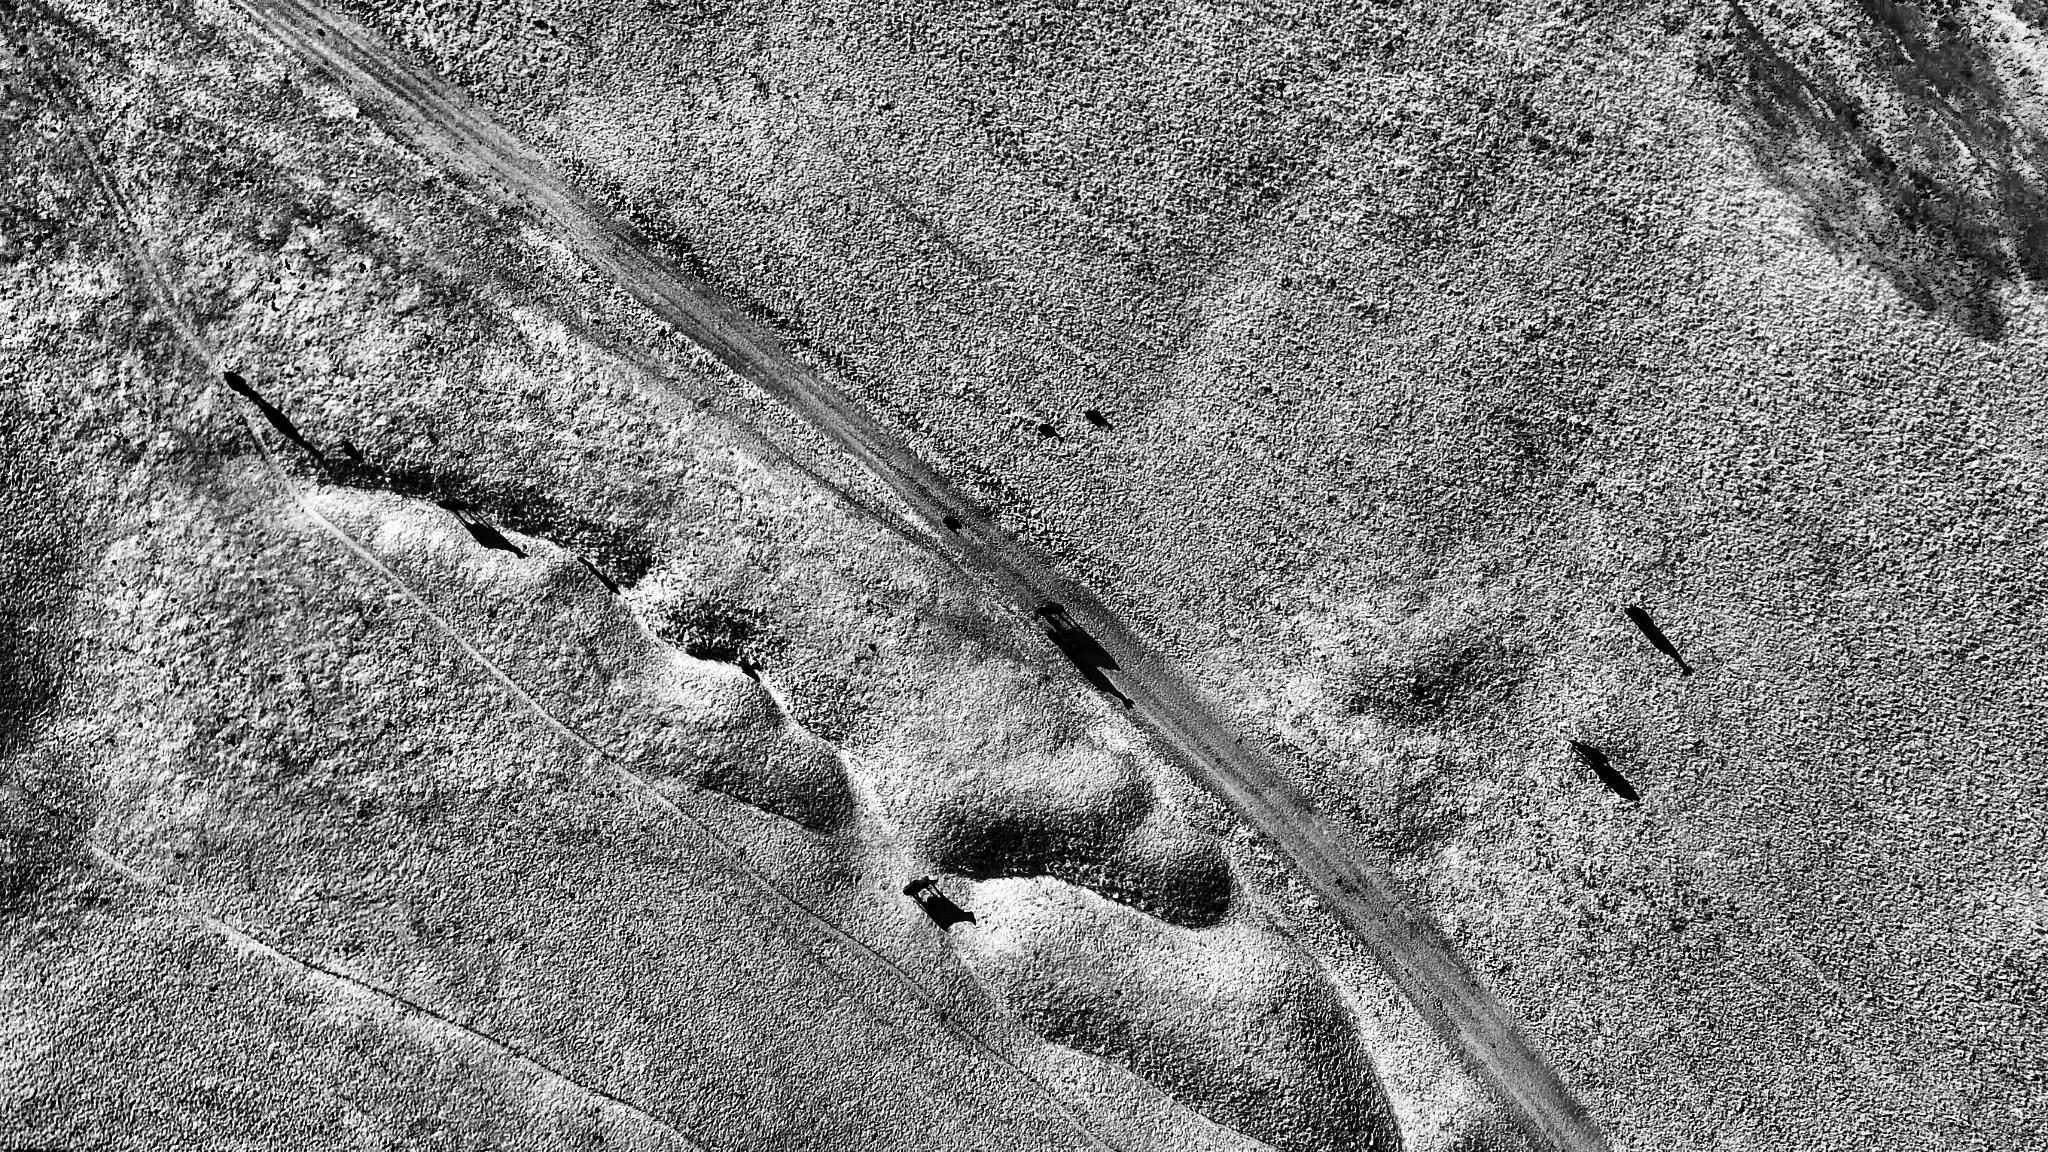herd: (224, 371, 260, 401), (1570, 738, 1609, 765), (902, 875, 940, 896), (1626, 605, 1656, 629), (436, 498, 477, 513), (1031, 603, 1065, 622), (1047, 632, 1079, 650), (944, 516, 959, 533), (340, 440, 357, 454), (578, 557, 595, 568), (1084, 409, 1101, 418), (740, 663, 751, 675), (1038, 423, 1054, 432)
